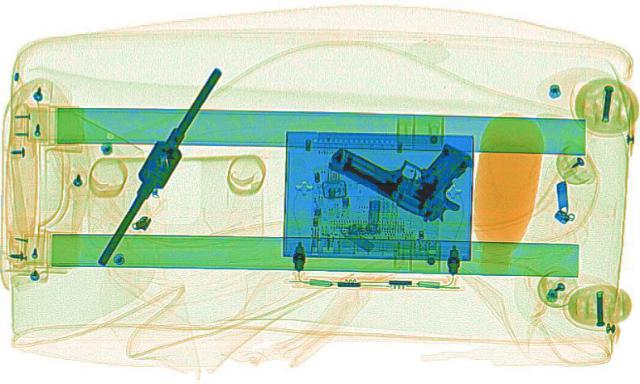Gun: (308, 115, 512, 223)
